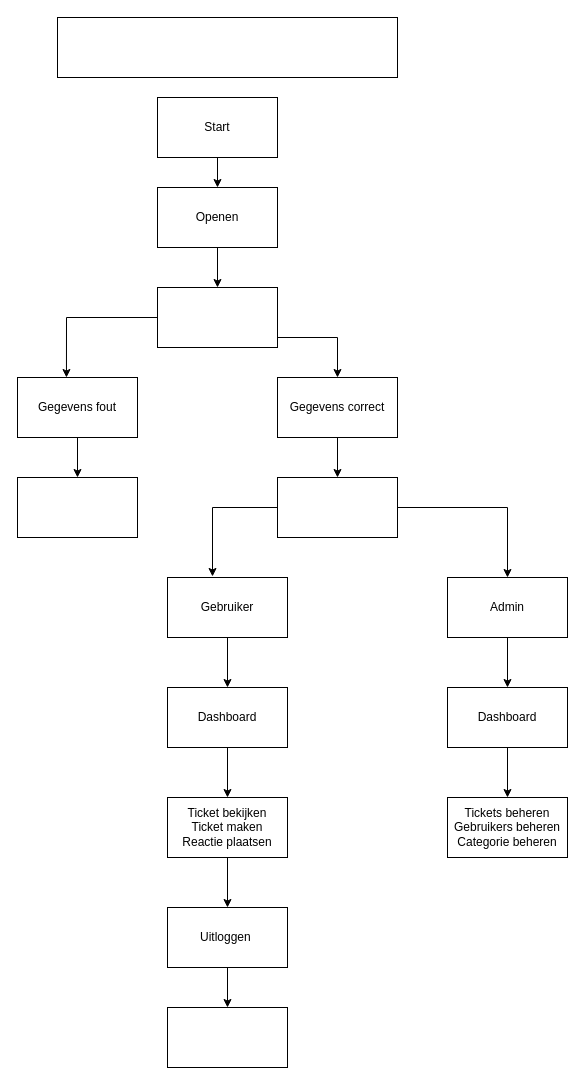
Image size: 585x1085. Some labels were removed from this diagram. The shapes that lost their labels are listed below. From the top down, each one's centre as x and y in pixels, then its label:
point (227, 47): Flowchart Klantenhulpportaal
point (217, 317): Inloggen
point (77, 507): Foutmelding
point (337, 507): Controle rol
point (227, 1037): Einde
